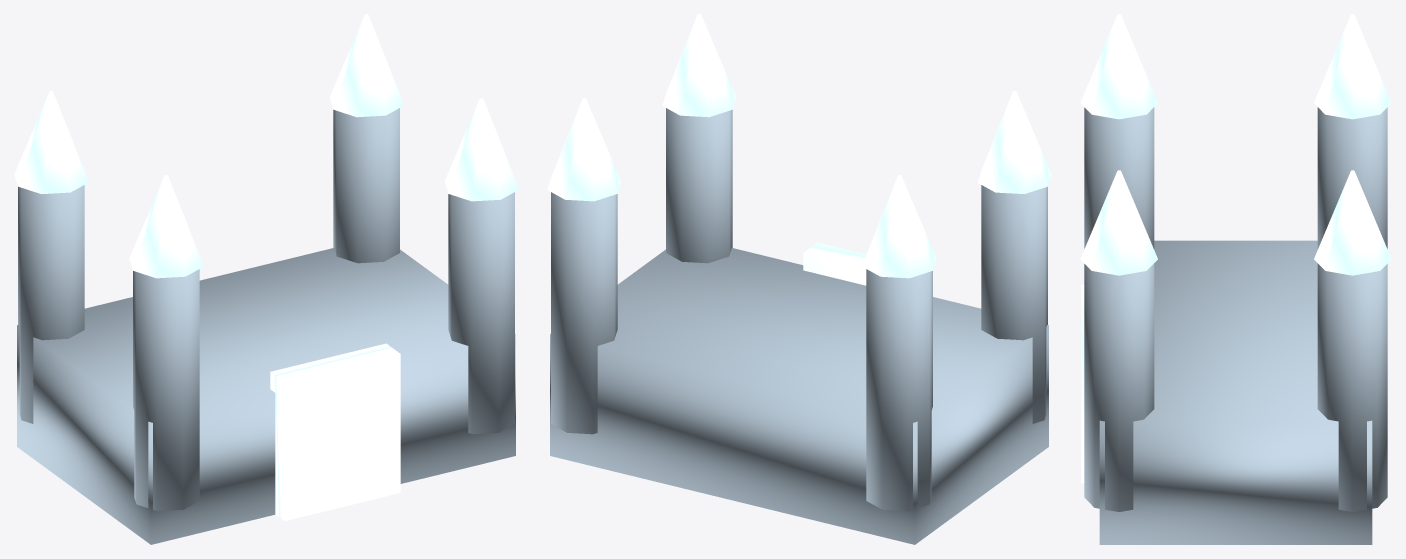
The model's file is structure_sleeping_palace_monument.glb.
The picture shows the model from 3 angles, left to right: view 1: azimuth 30°, elevation 25°; view 2: azimuth 150°, elevation 25°; view 3: azimuth 270°, elevation 25°; orthographic projection.
Visible parts, largest first — view 1: Palace_Grand_Façade, Royal_Frost_Gate, Palace_Spire_1, Palace_Spire_2, Palace_Spire_3, Palace_Spire_4, Palace_Cone_2, Palace_Cone_3, Palace_Cone_1, Palace_Cone_4; view 2: Palace_Grand_Façade, Palace_Spire_3, Palace_Spire_4, Palace_Spire_1, Palace_Spire_2, Palace_Cone_1, Palace_Cone_4, Palace_Cone_3, Palace_Cone_2, Royal_Frost_Gate; view 3: Palace_Grand_Façade, Palace_Spire_2, Palace_Spire_4, Palace_Spire_1, Palace_Spire_3, Palace_Cone_1, Palace_Cone_3, Palace_Cone_2, Palace_Cone_4, Royal_Frost_Gate.
Part boxes in pixels (x1,y1,x2,y2): Palace_Grand_Façade: [17, 248, 515, 544]; Royal_Frost_Gate: [270, 343, 400, 521]; Palace_Spire_1: [133, 269, 199, 511]; Palace_Spire_2: [448, 192, 514, 434]; Palace_Spire_3: [18, 185, 84, 423]; Palace_Spire_4: [333, 108, 399, 263]; Palace_Cone_2: [444, 98, 518, 201]; Palace_Cone_3: [14, 91, 88, 194]; Palace_Cone_1: [129, 175, 203, 278]; Palace_Cone_4: [329, 14, 403, 117]; Palace_Grand_Façade: [550, 248, 1048, 544]; Palace_Spire_3: [866, 269, 932, 511]; Palace_Spire_4: [551, 192, 617, 434]; Palace_Spire_1: [981, 185, 1047, 423]; Palace_Spire_2: [666, 108, 732, 263]; Palace_Cone_1: [977, 91, 1051, 194]; Palace_Cone_4: [547, 98, 621, 201]; Palace_Cone_3: [862, 175, 936, 278]; Palace_Cone_2: [662, 14, 736, 117]; Royal_Frost_Gate: [803, 242, 933, 296]; Palace_Grand_Façade: [1099, 240, 1372, 544]; Palace_Spire_2: [1084, 263, 1154, 511]; Palace_Spire_4: [1317, 263, 1387, 511]; Palace_Spire_1: [1084, 107, 1154, 249]; Palace_Spire_3: [1317, 107, 1387, 249]; Palace_Cone_1: [1080, 14, 1157, 119]; Palace_Cone_3: [1314, 14, 1391, 119]; Palace_Cone_2: [1080, 170, 1157, 275]; Palace_Cone_4: [1314, 170, 1391, 275]; Royal_Frost_Gate: [1081, 284, 1084, 483].
Bounding box in the file's own units: 23 × 20.5 × 16.
